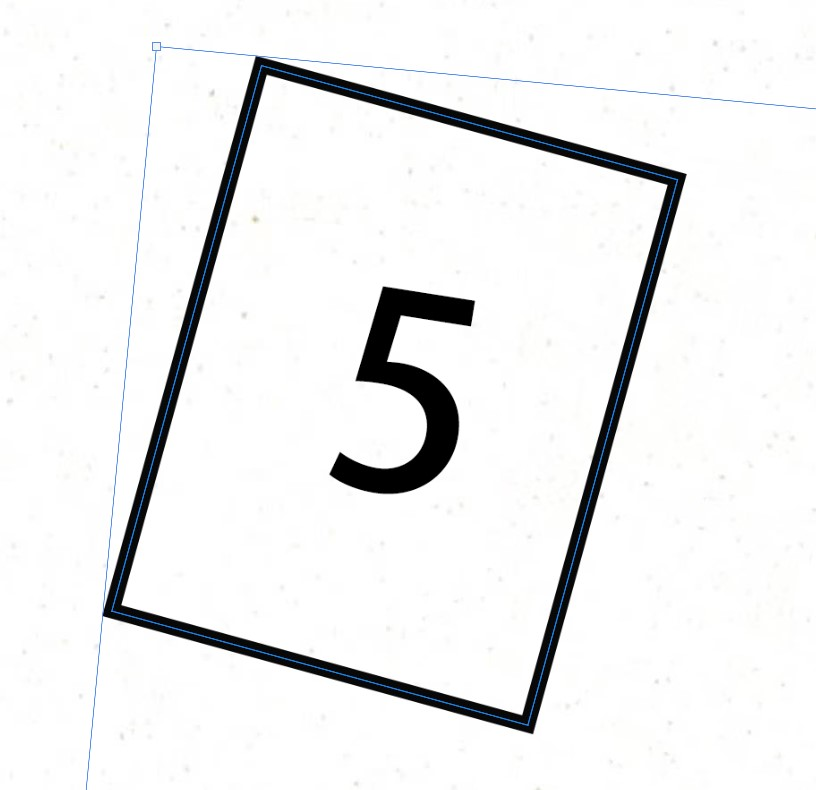five: (254, 234, 508, 552)
